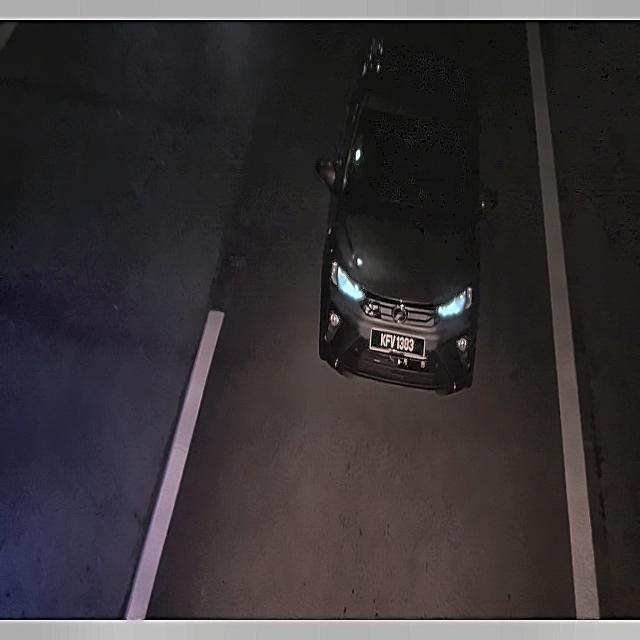car: (367, 327, 429, 364)
